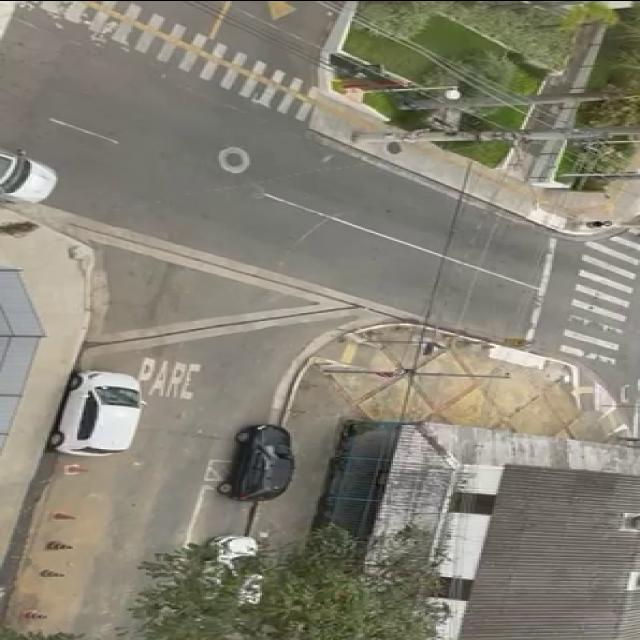car: (38, 361, 156, 463), (186, 525, 265, 639), (219, 412, 304, 512), (0, 142, 71, 206)
